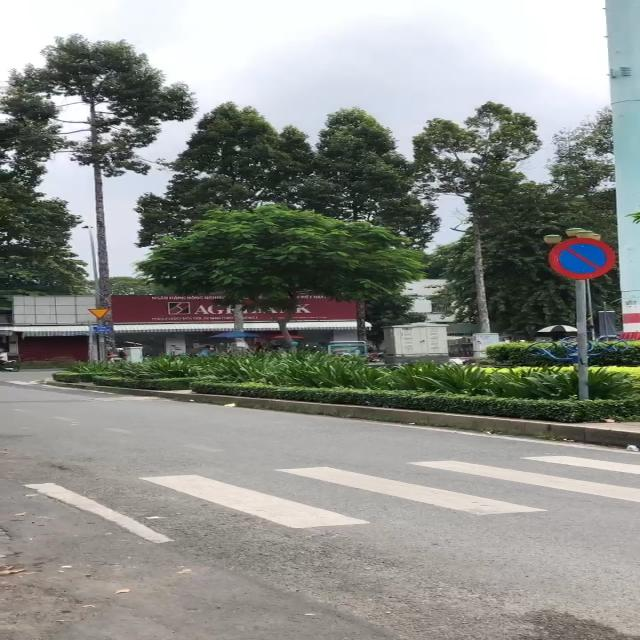Bien bao cam do xe: (540, 233, 638, 282)
Bien bao giao nhau voi duong uu tien: (86, 307, 117, 322)
